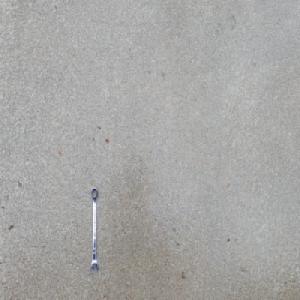Wrench: (89, 184, 99, 275)
